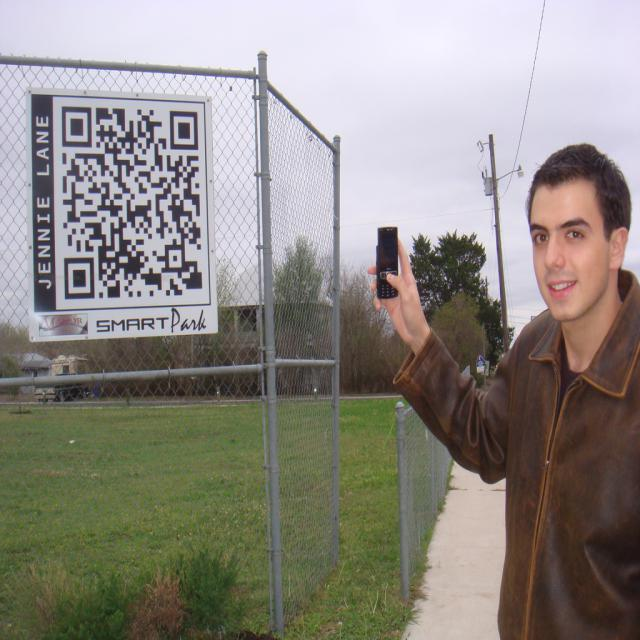qrcode: (63, 108, 203, 299)
